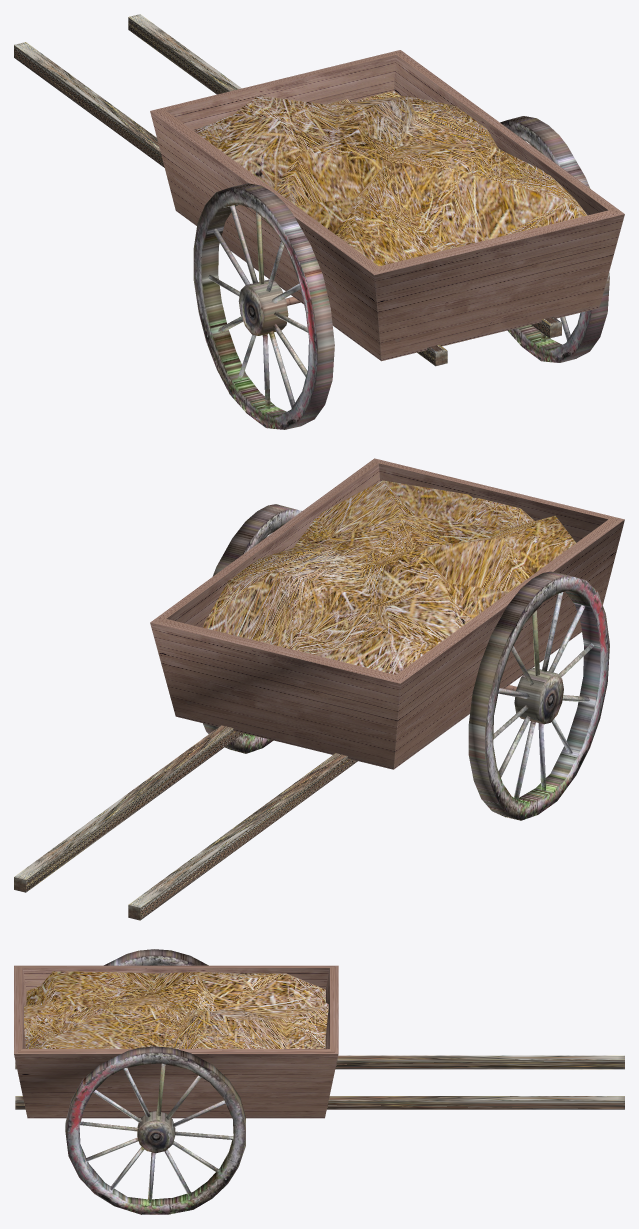
Rendered from Cart.obj.
3 renders of one model, top to bottom at view 1: azimuth 30°, elevation 25°; view 2: azimuth 150°, elevation 25°; view 3: azimuth 270°, elevation 25°, orthographic. The views are drawn at different scales.
Visible parts, largest first — view 1: Cart, Hay, Weels, Cart2; view 2: Cart, Hay, Weels, Cart2; view 3: Cart, Hay, Weels, Cart2.
Boxes of the visible parts, x1,y1,x2,y2 form: Cart: [150, 50, 624, 361]; Hay: [194, 91, 587, 266]; Weels: [193, 116, 609, 429]; Cart2: [14, 14, 561, 366]; Cart: [150, 458, 624, 769]; Hay: [203, 480, 575, 674]; Weels: [203, 504, 609, 820]; Cart2: [14, 725, 357, 920]; Cart: [14, 965, 338, 1118]; Hay: [24, 971, 328, 1048]; Weels: [65, 949, 245, 1214]; Cart2: [15, 1055, 624, 1109].
Size of the model in its own units: 76.35 by 57.83 by 187.
